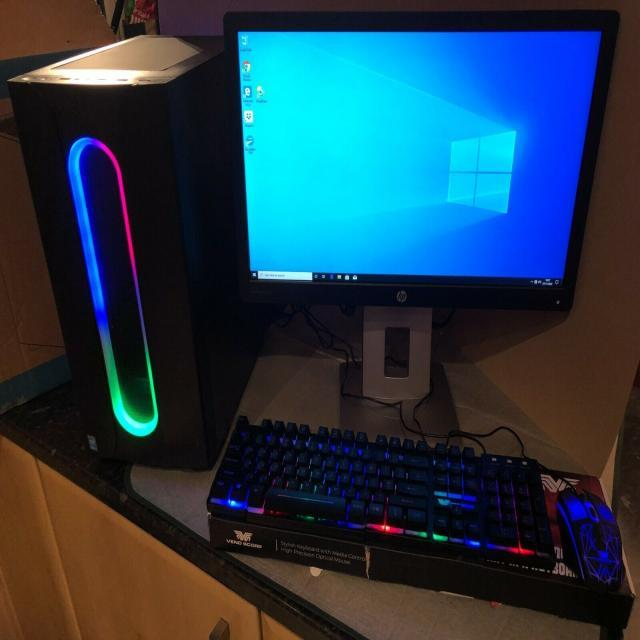Computer-Keyboard: (203, 414, 637, 592)
Desktop-PC: (9, 38, 237, 470)
Flat-Panel-Monitor: (208, 2, 626, 412)
